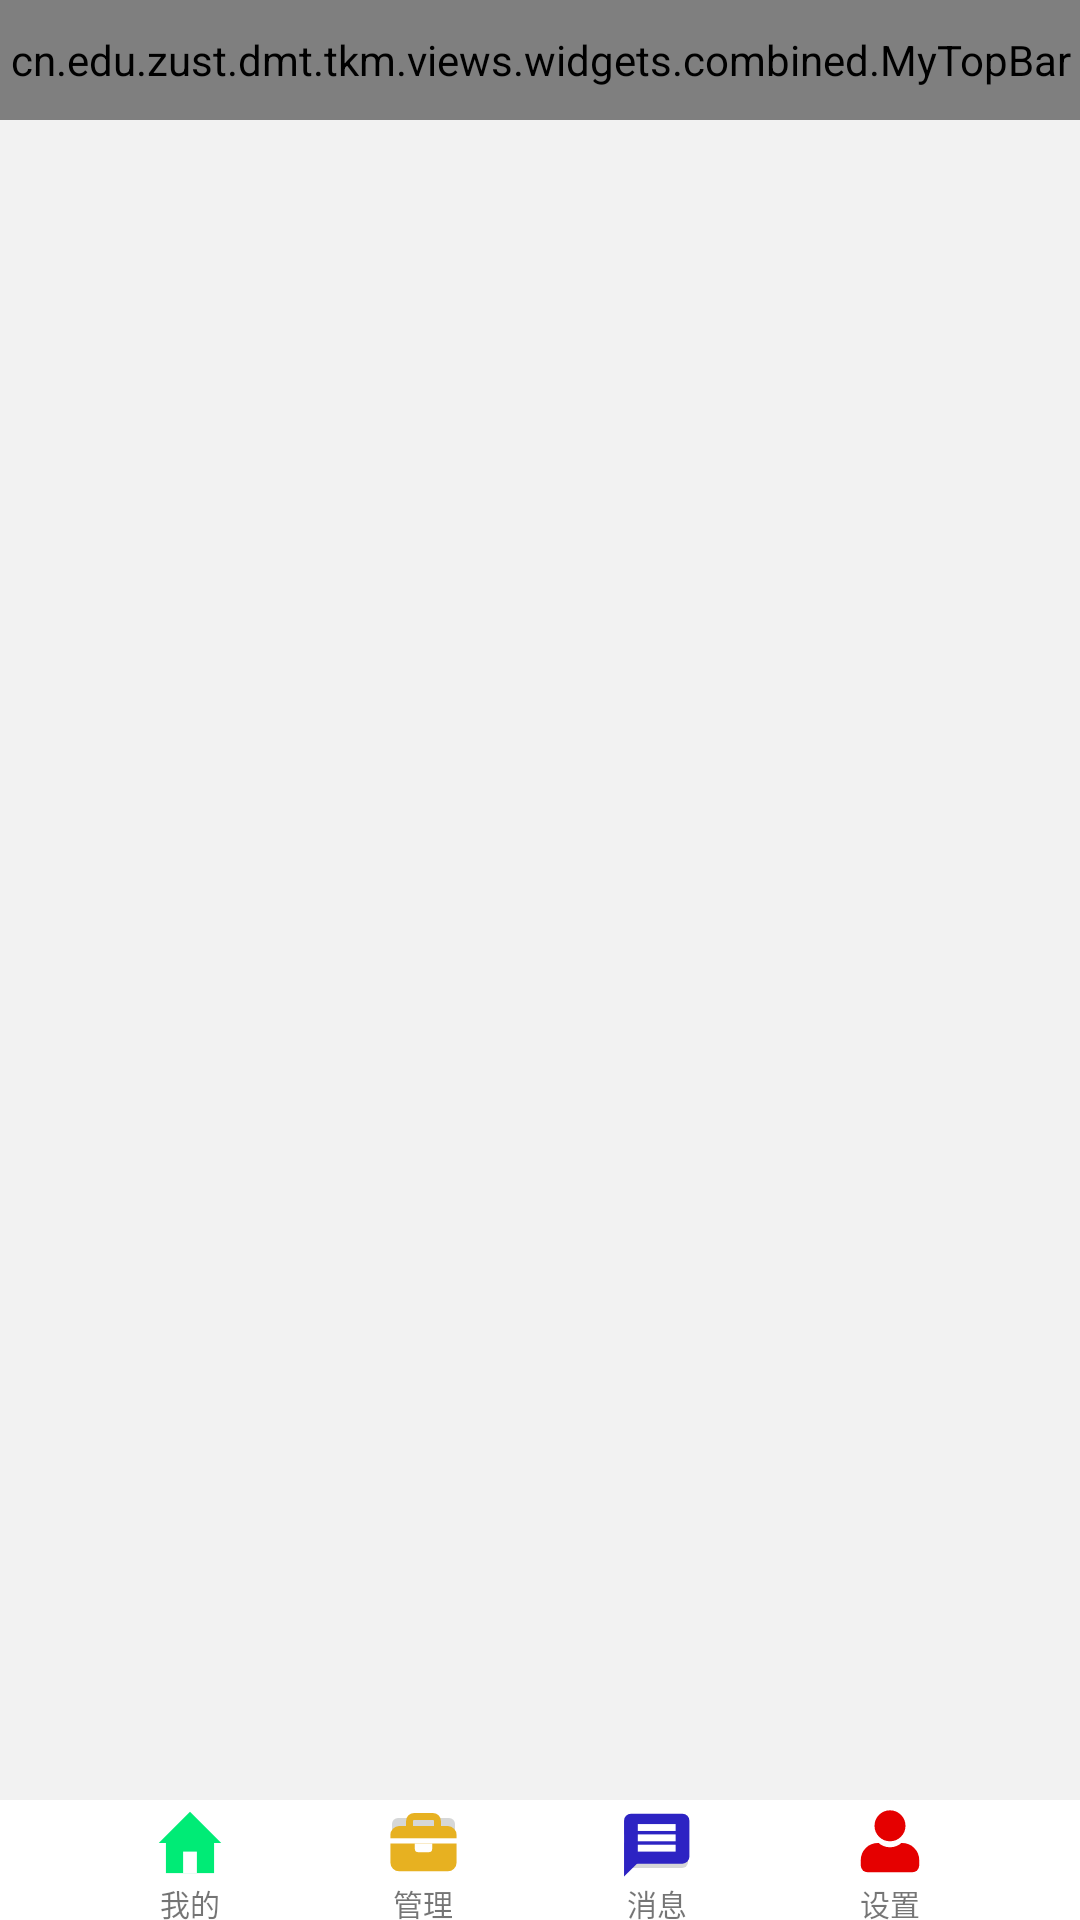

Where to tap for icons on this 1080 × 1920 app screen, as [x,y]:
activity main home: [190,1843]
